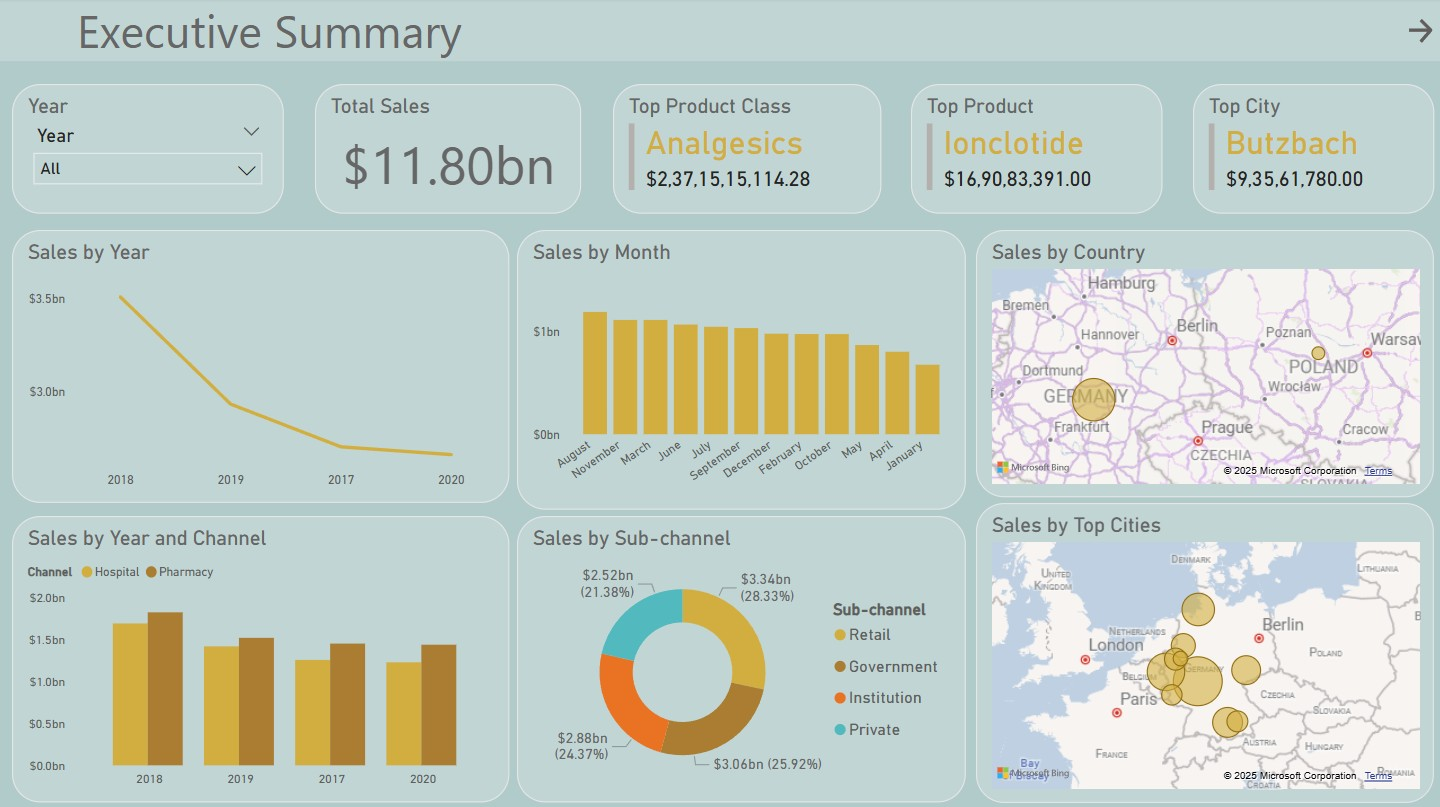

The page's visual inventory and layout, read from the dashboard file:
{"tool":"powerbi","page":{"name":"Executive Summary","canvas":[1280,720],"ordinal":1},"visuals":[{"type":"slicer","title":"Year","fields":{"Values":["FACT-sales.Year"]},"box":[12.4,76.3,241.2,115.3],"z":0},{"type":"shape","box":[0,0,1280.4,55.9],"z":1000},{"type":"card","title":"Total Sales","fields":{"Values":["Sum(FACT-sales.Sales)"]},"box":[281.1,76.3,235.9,115.3],"z":2000},{"type":"lineChart","title":"Sales by Year","fields":{"Category":["FACT-sales.Year"],"Y":["Sum(FACT-sales.Sales)"]},"box":[12.4,205.7,440.7,242.1],"z":3000},{"type":"columnChart","title":"Sales by Month","fields":{"Y":["Sum(FACT-sales.Sales)"],"Category":["DIM-month.Month"]},"box":[460.2,205.7,398.1,248.3],"z":4000},{"type":"clusteredColumnChart","title":"Sales by Year and Channel","fields":{"Category":["FACT-sales.Year"],"Y":["Sum(FACT-sales.Sales)"],"Series":["DIM-channel.Channel"]},"box":[12.4,459.3,440.7,254.5],"z":5000},{"type":"donutChart","title":"Sales by Sub-channel","fields":{"Category":["DIM-subchannel.Sub-channel"],"Y":["Sum(FACT-sales.Sales)"]},"box":[460,459.3,398.1,254.5],"z":6000},{"type":"map","title":"Sales by Country","fields":{"Category":["DIM-country.Country"],"Size":["Sum(FACT-sales.Sales)"]},"box":[867.2,205.7,406.1,236.7],"z":7000},{"type":"map","title":"Sales by Top Cities","fields":{"Size":["Sum(FACT-sales.Sales)"],"Category":["DIM-city.City"],"Y":["Avg(DIM-city.Latitude)"],"X":["Avg(DIM-city.Longitude)"]},"box":[867.2,447.8,406.1,266],"z":8000},{"type":"actionButton","box":[1245.8,14.2,30.1,30.1],"z":9000},{"type":"multiRowCard","title":"Top Product Class","fields":{"Values":["DIM-product.Product Class","Sum(FACT-sales.Sales)"]},"box":[545.3,76.3,237.6,115.3],"z":10000},{"type":"multiRowCard","title":"Top Product","fields":{"Values":["DIM-product.Product Name","Sum(FACT-sales.Sales)"]},"box":[809.6,76.3,222.6,115.3],"z":11000},{"type":"multiRowCard","title":"Top City","fields":{"Values":["DIM-city.City","Sum(FACT-sales.Sales)"]},"box":[1059.6,76.3,213.7,115.3],"z":12000}]}

Visuals, with their boxes in screenshot pixels (x1, y1, x2, y2), scaled from the page's 1280x720 canvas onto the 1440x807 screenshot:
"Year" slicer: locate(14, 86, 285, 215)
shape: locate(0, 0, 1439, 63)
"Total Sales" card: locate(316, 86, 582, 215)
"Sales by Year" lineChart: locate(14, 231, 510, 502)
"Sales by Month" columnChart: locate(518, 231, 966, 509)
"Sales by Year and Channel" clusteredColumnChart: locate(14, 515, 510, 800)
"Sales by Sub-channel" donutChart: locate(518, 515, 965, 800)
"Sales by Country" map: locate(976, 231, 1432, 496)
"Sales by Top Cities" map: locate(976, 502, 1432, 800)
actionButton: locate(1402, 16, 1435, 50)
"Top Product Class" multiRowCard: locate(613, 86, 881, 215)
"Top Product" multiRowCard: locate(911, 86, 1161, 215)
"Top City" multiRowCard: locate(1192, 86, 1432, 215)
